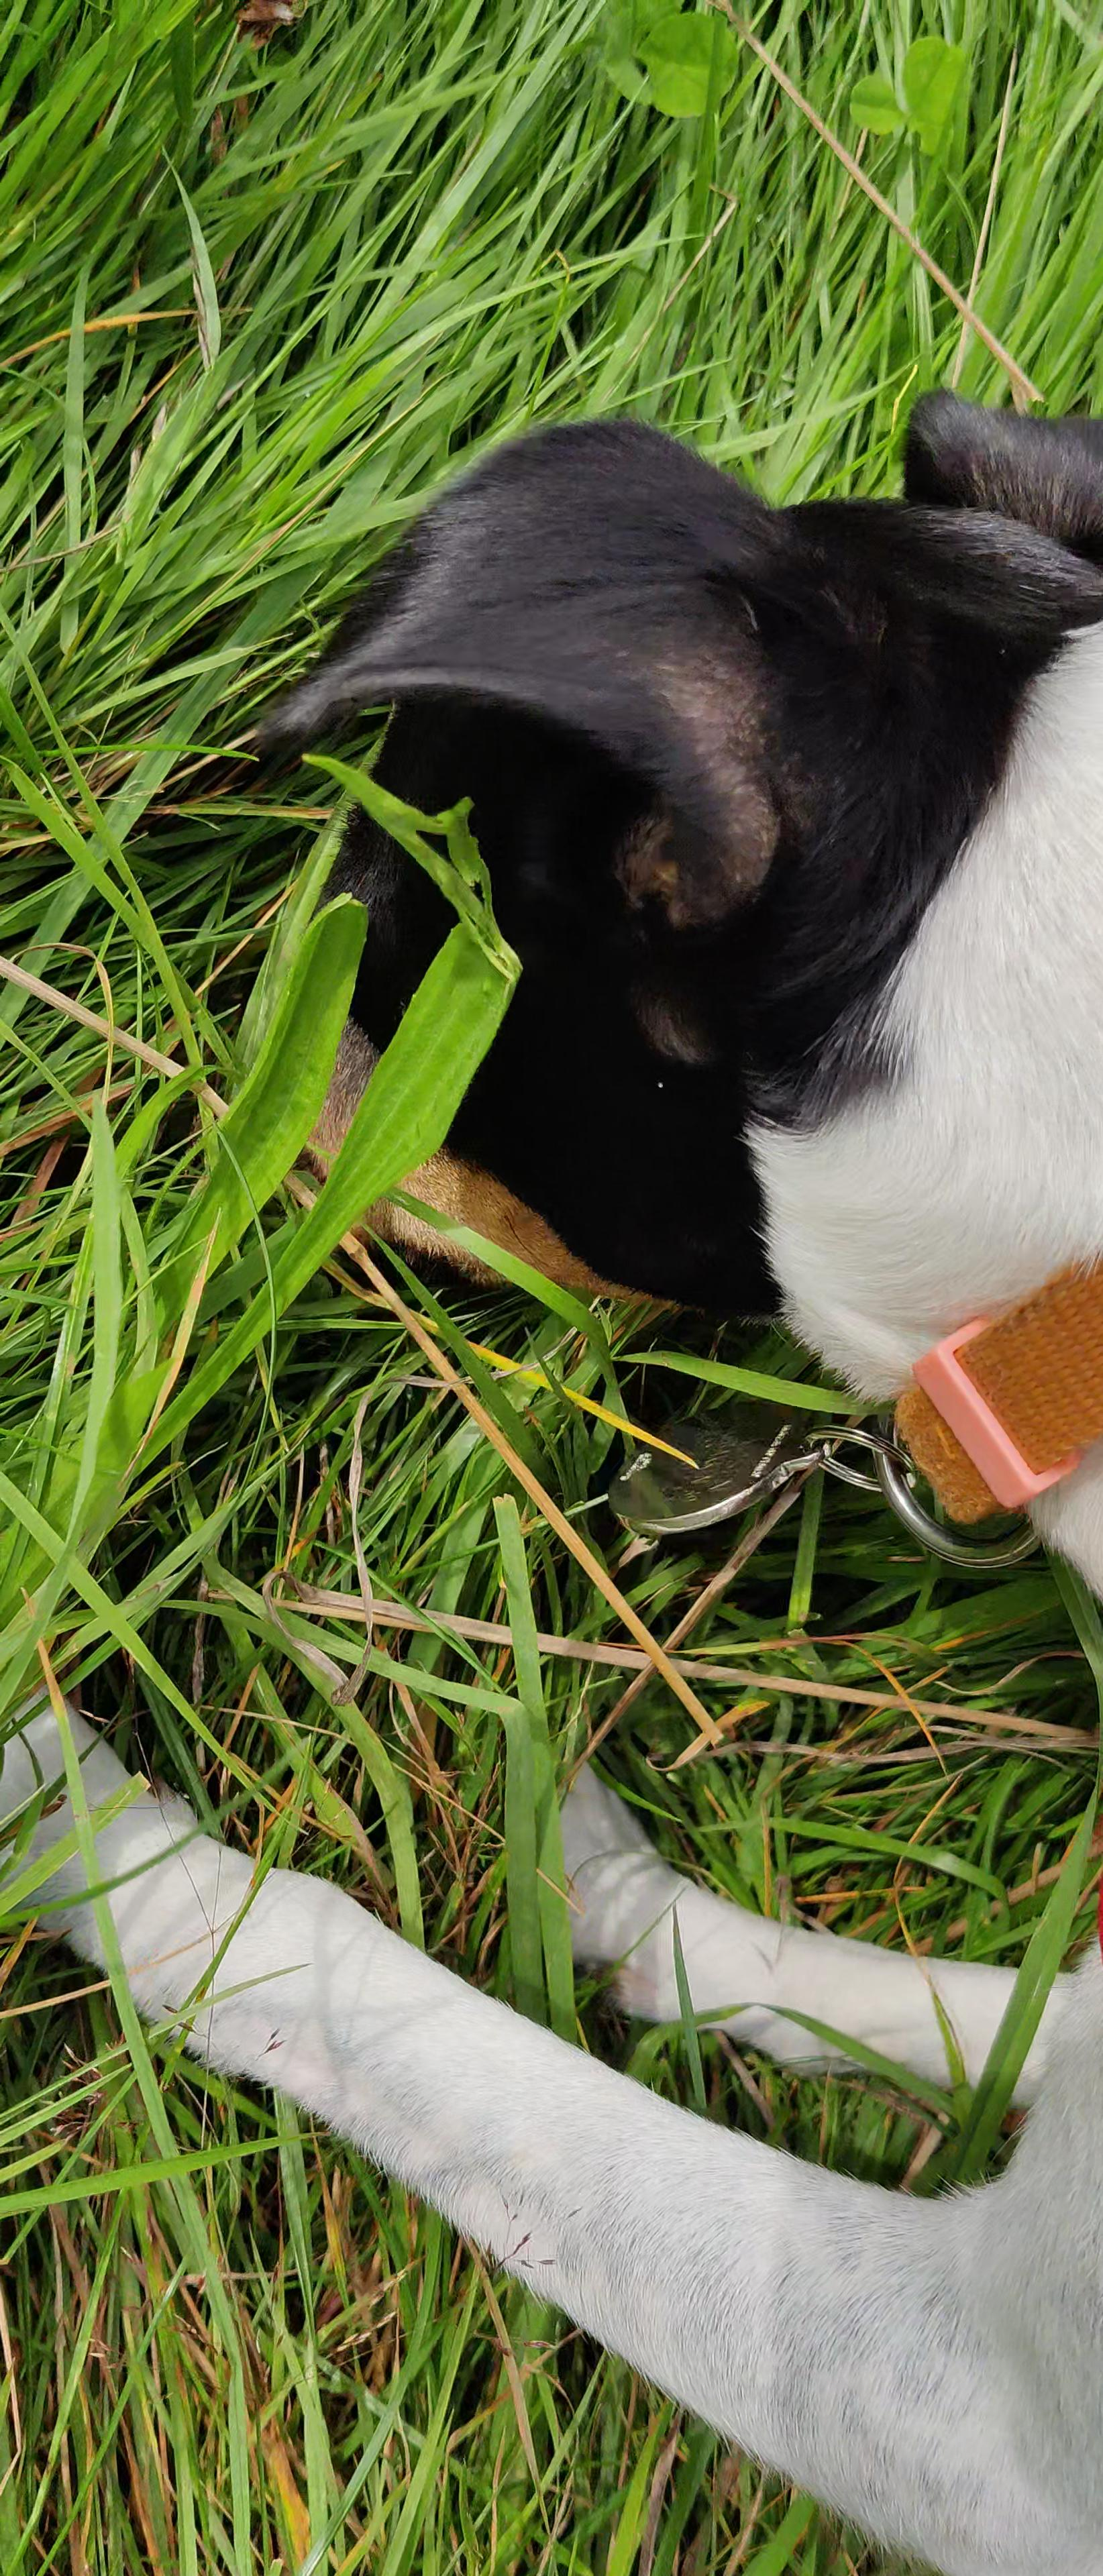Dog: (0, 373, 1103, 2576)
